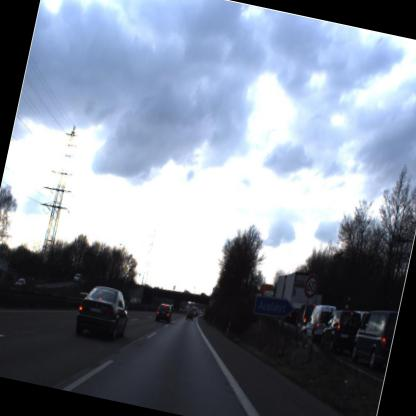prohibitory: (298, 273, 322, 302)
